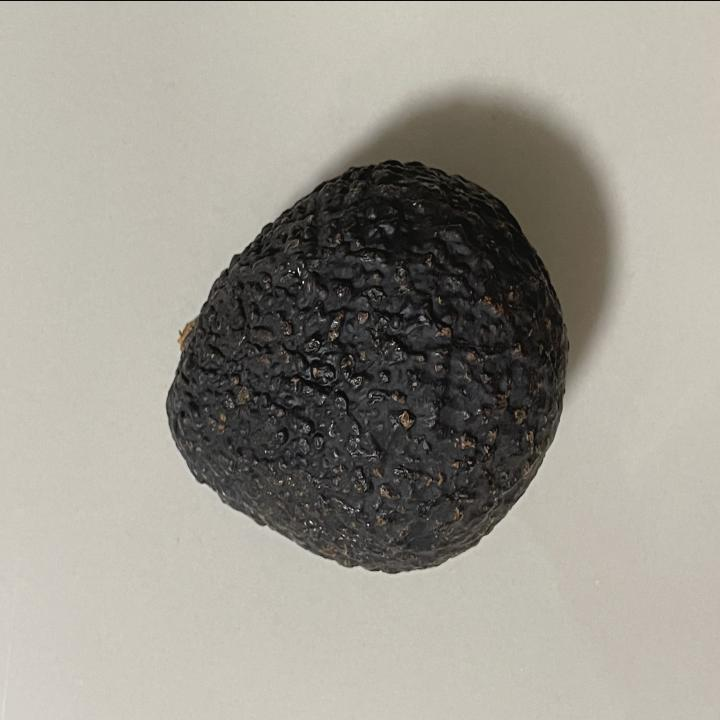Level3: (152, 148, 574, 584)
